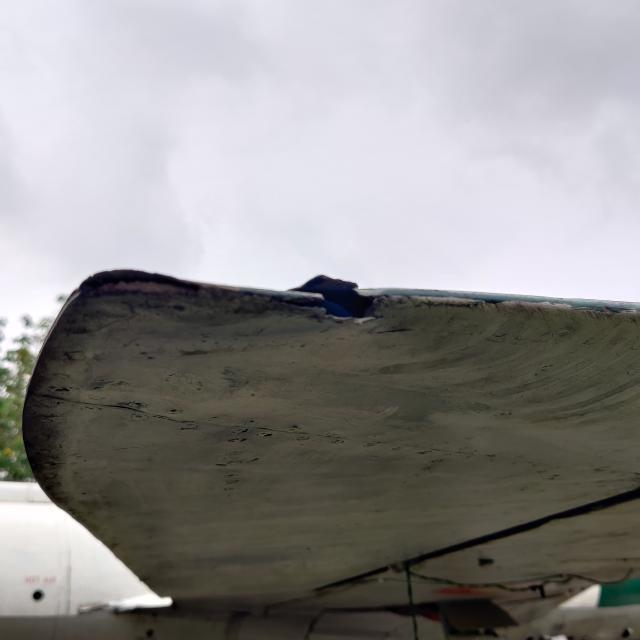crack: (275, 258, 398, 337)
